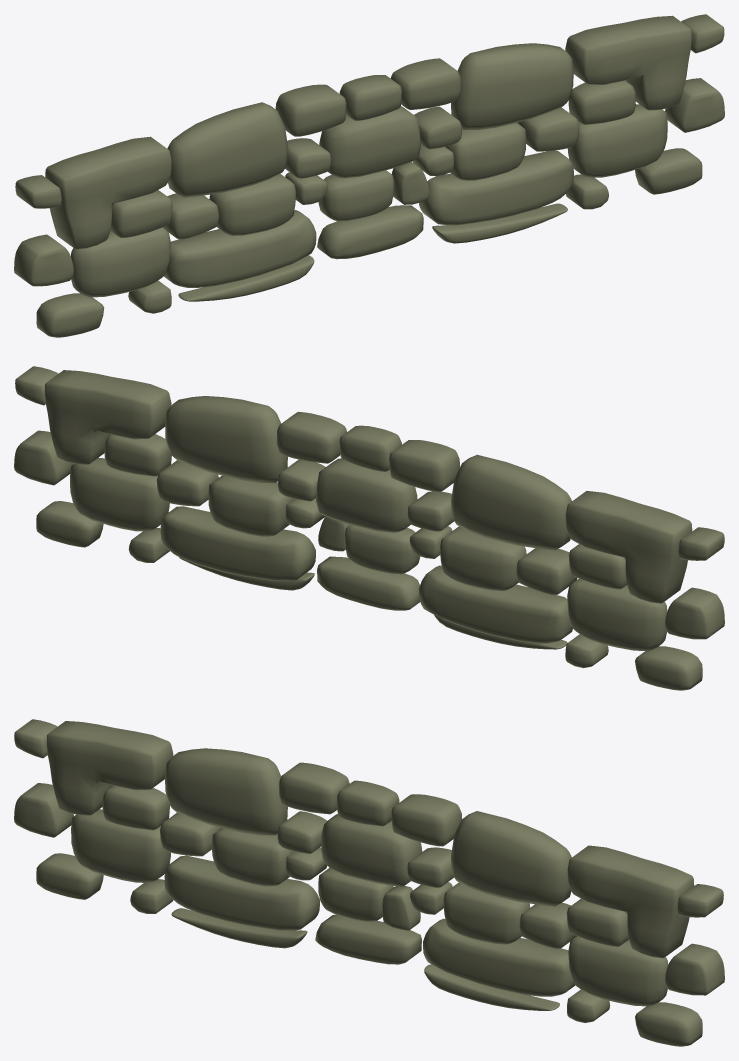
Rendered from Walltest.fbx.
3 renders of one model, top to bottom at view 1: azimuth 30°, elevation 25°; view 2: azimuth 150°, elevation 25°; view 3: azimuth 330°, elevation 25°, orthographic.
Parts seen in each view (by area): view 1: Wall.001; view 2: Wall.001; view 3: Wall.001.
Boxes of the visible parts, left/top/right/bottom form: Wall.001: left=14, top=14, right=724, bottom=337; Wall.001: left=14, top=366, right=724, bottom=690; Wall.001: left=14, top=719, right=724, bottom=1046.
Bounding box in the file's own units: 243 × 60.84 × 14.81.
